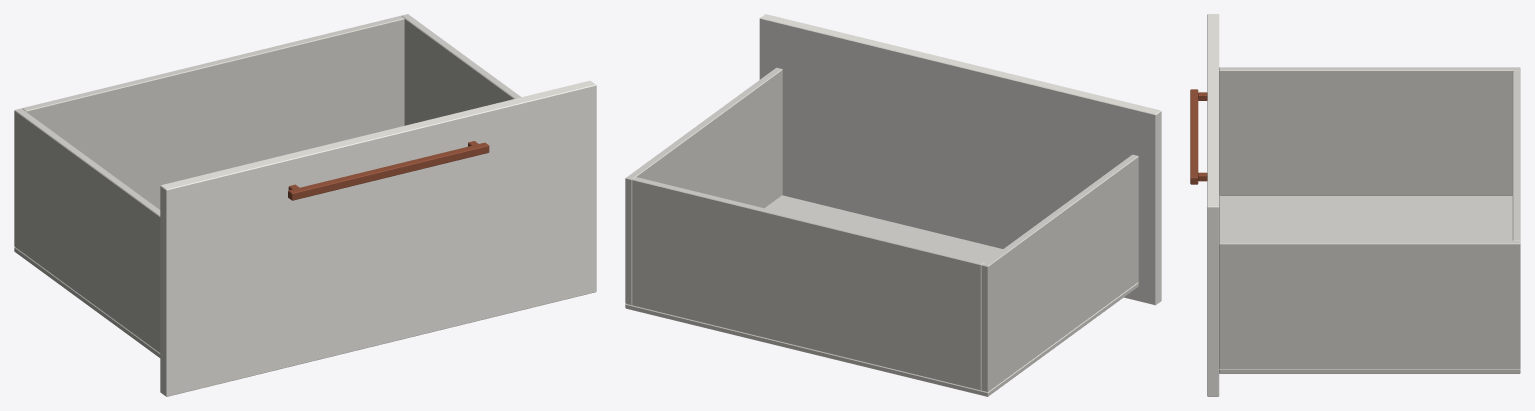
Rendered from l_kitchen_cabinets_b4_bottom_drawer.glb.
3 renders of one model, left to right at view 1: azimuth 30°, elevation 25°; view 2: azimuth 150°, elevation 25°; view 3: azimuth 270°, elevation 25°, orthographic. The views are drawn at different scales.
Parts seen in each view (by area): view 1: l_kitchen_cabinets_b4_bottom_drawer; view 2: l_kitchen_cabinets_b4_bottom_drawer; view 3: l_kitchen_cabinets_b4_bottom_drawer.
Boxes of the visible parts, left/top/right/bottom form: l_kitchen_cabinets_b4_bottom_drawer: left=14, top=14, right=596, bottom=396; l_kitchen_cabinets_b4_bottom_drawer: left=625, top=14, right=1161, bottom=396; l_kitchen_cabinets_b4_bottom_drawer: left=1190, top=14, right=1520, bottom=396.
Size of the model in its own units: 0.697 by 0.321 by 0.504.
